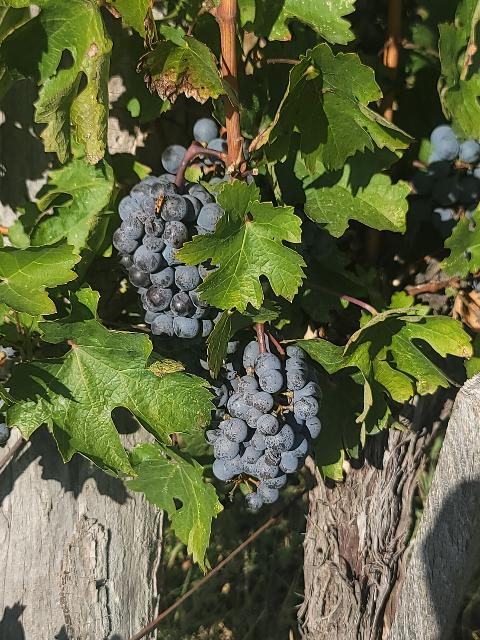grapes: (206, 339, 322, 510), (111, 175, 224, 339)
